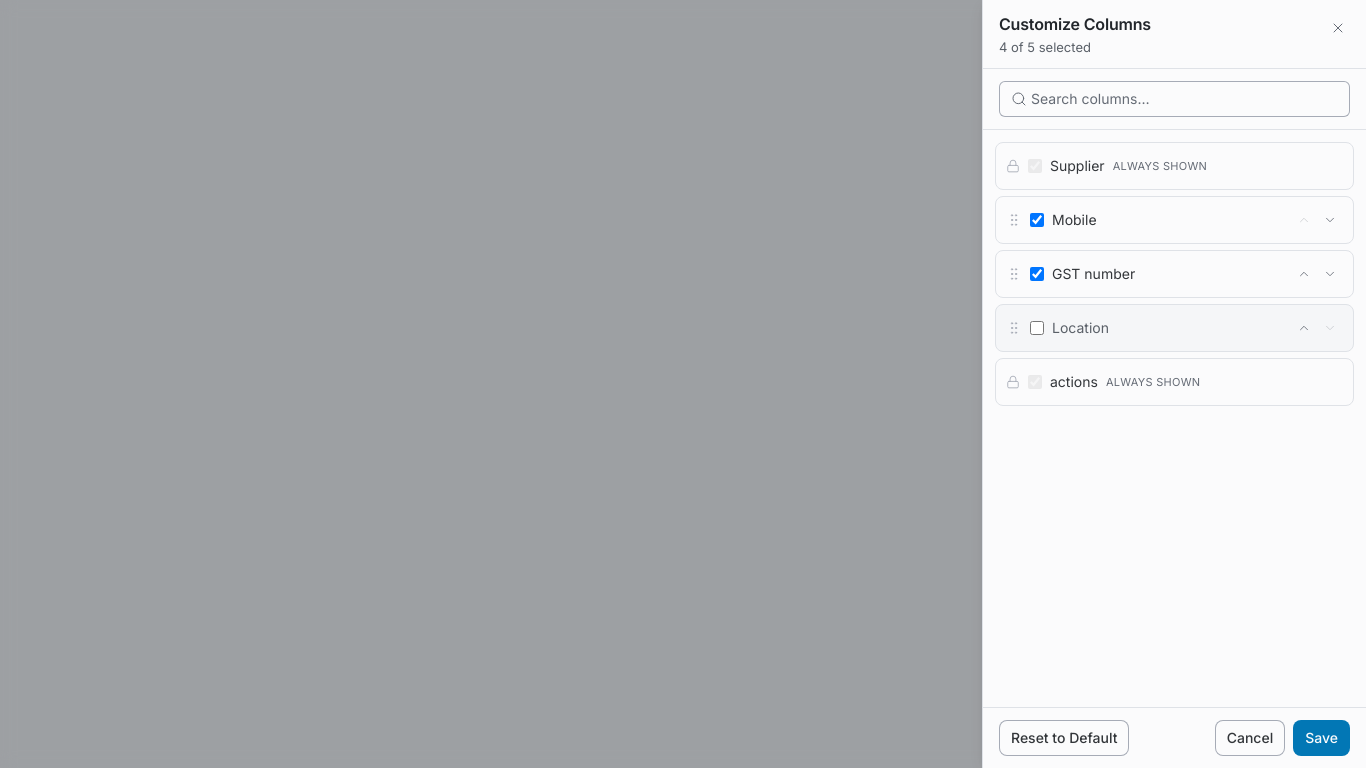
Test case: CustomizeColumns › search › shows only the columns that match
Type "gst" into the field labelled "Search columns" at (1174, 99), box [999,81,1350,117]
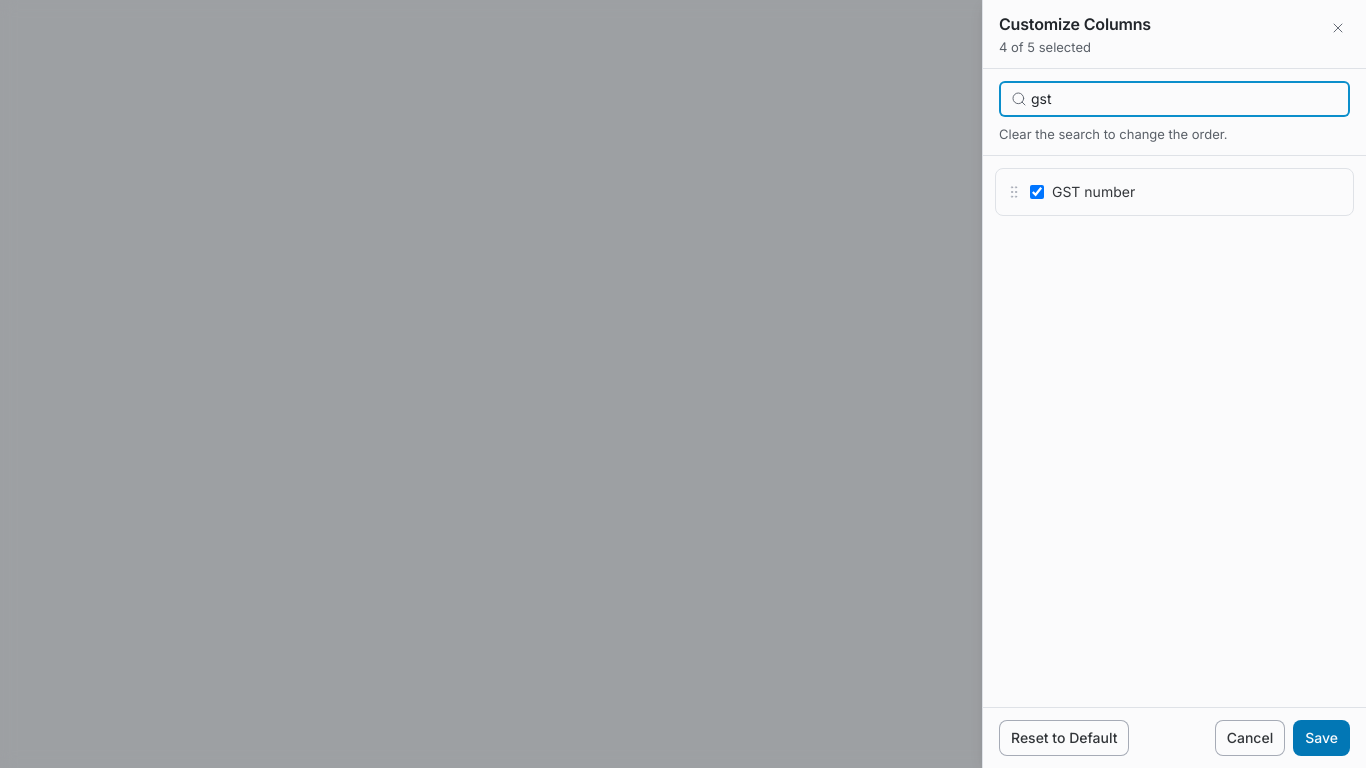
Expected: the checkbox labelled "GST number" is shown, [1030,185,1044,199]
Expected: the text "Mobile" is gone
